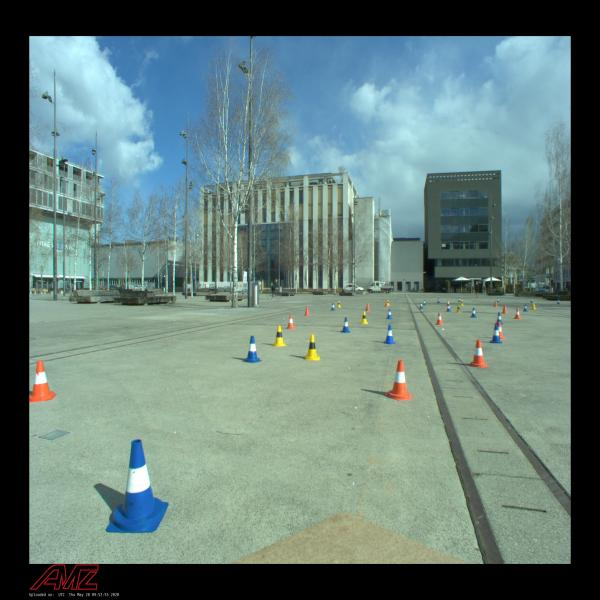blue_cone: (105, 439, 169, 533), (242, 336, 262, 363), (382, 324, 397, 344), (490, 323, 502, 344), (341, 317, 350, 333), (496, 312, 503, 325), (386, 308, 393, 320), (470, 307, 477, 318), (446, 304, 451, 312), (331, 303, 336, 310), (523, 304, 528, 311), (419, 302, 423, 309), (530, 298, 533, 303), (437, 298, 440, 303), (423, 300, 426, 305), (496, 298, 499, 302), (458, 297, 460, 302)
orange_cone: (385, 360, 414, 402), (29, 360, 57, 402), (468, 340, 489, 367), (494, 322, 506, 339), (287, 315, 296, 329), (435, 312, 444, 325), (514, 308, 521, 320), (304, 306, 310, 316), (502, 305, 507, 314), (366, 303, 370, 311), (384, 300, 388, 306), (494, 301, 497, 307), (447, 300, 450, 306)
yellow_cone: (305, 335, 320, 360), (271, 326, 287, 346), (360, 311, 368, 324), (456, 304, 461, 313), (532, 302, 536, 310), (337, 301, 341, 307), (386, 300, 390, 306), (460, 300, 464, 306)
